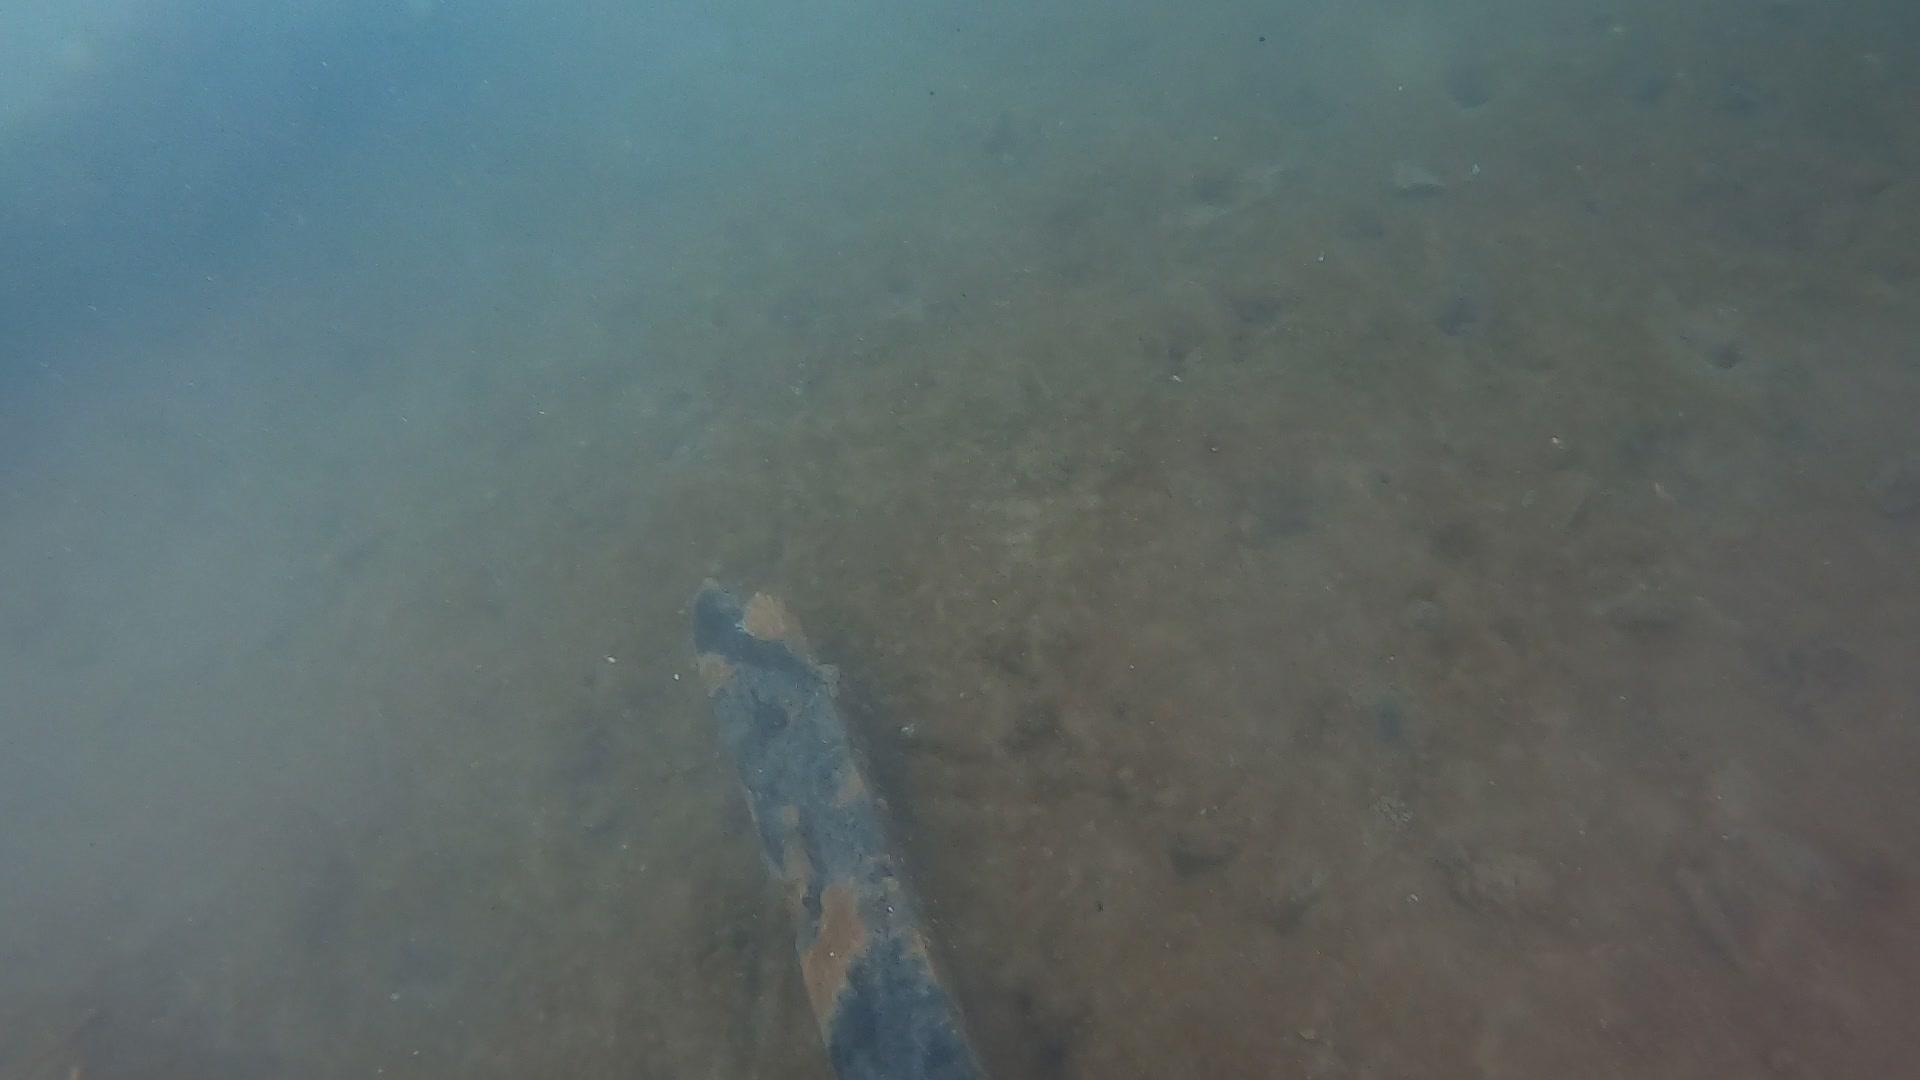wood: (686, 576, 1004, 1080)
